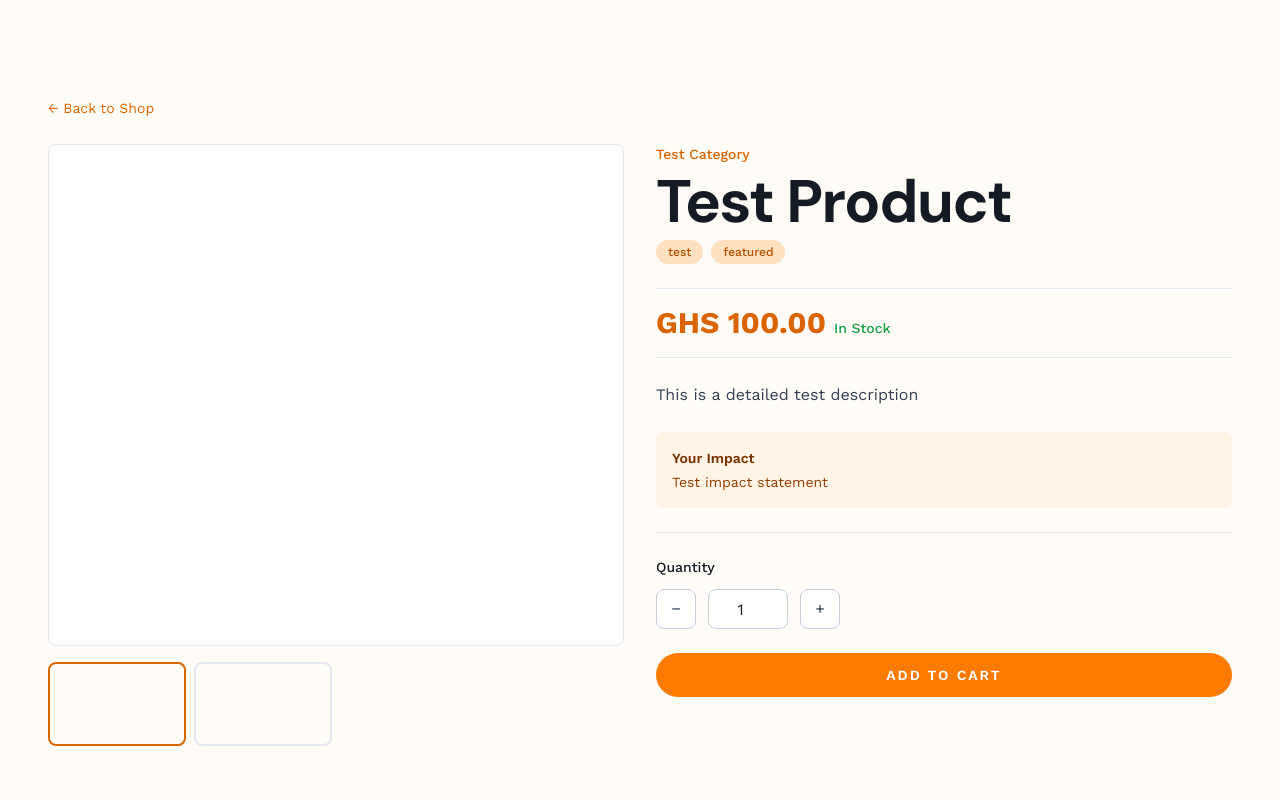
Test: ProductDetailPage › should allow increasing and decreasing quantity
Expected: the heading "Test Product" is shown, [656,162,1012,241]
# Increase quantity
Click the button "+": (820, 609) [800,589,840,629]
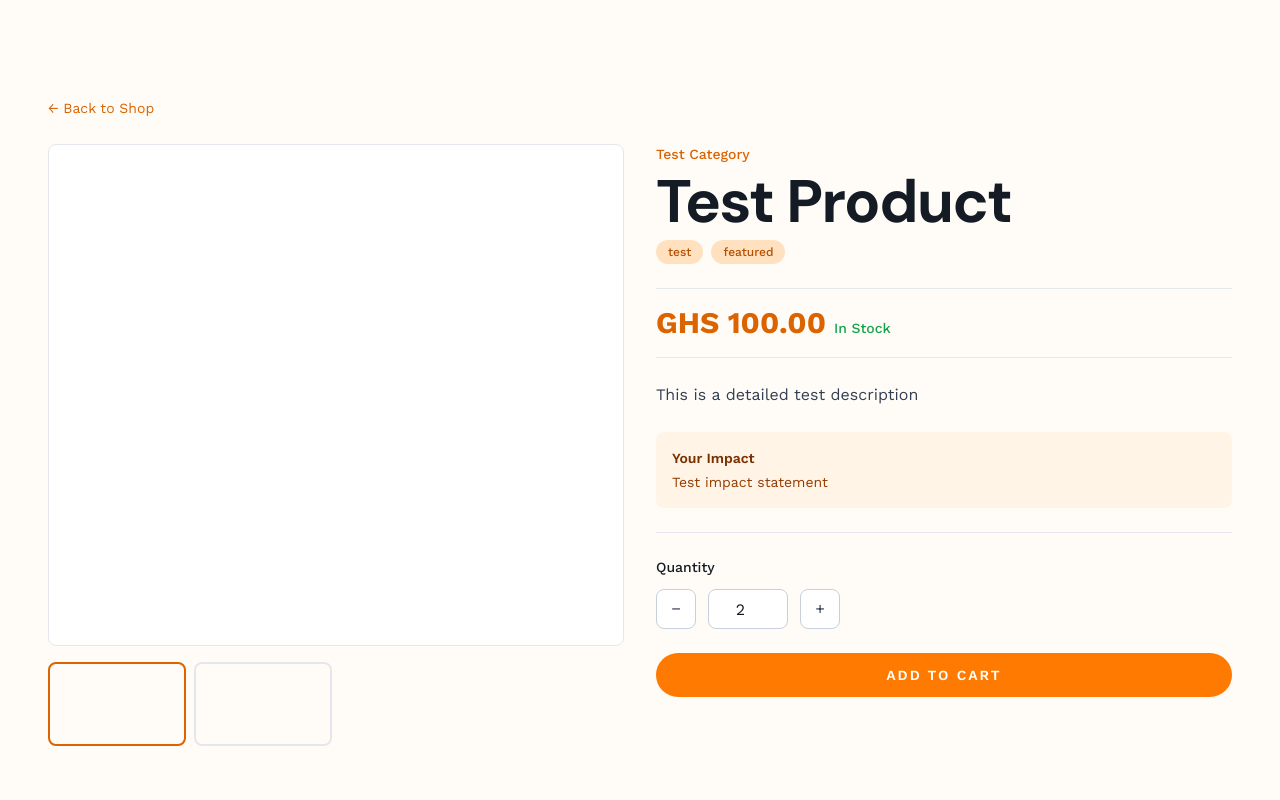
Now the number field holds "2", box [708,589,788,629]
# Increase again
Click the button "+": (820, 609) [800,589,840,629]
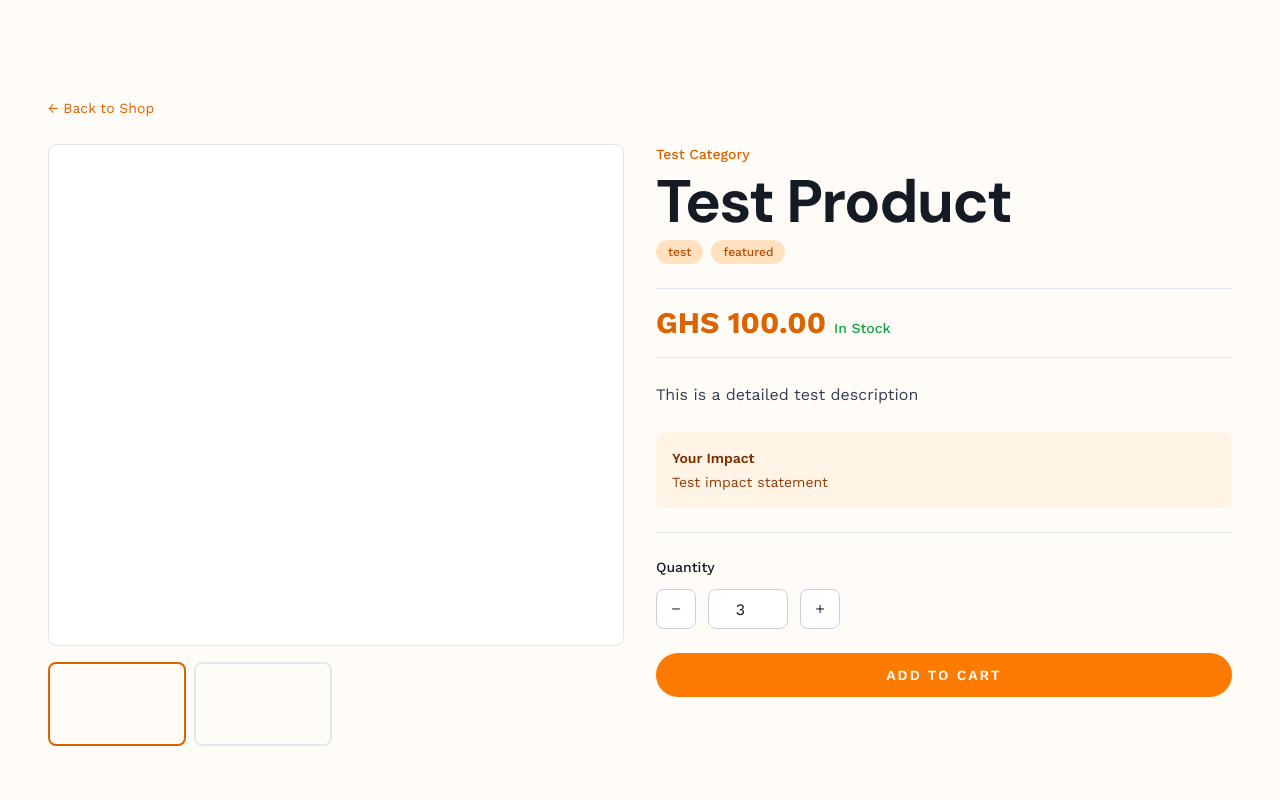
Now the number field holds "3", box [708,589,788,629]
# Decrease quantity
Click the button "−": (676, 609) [656,589,696,629]
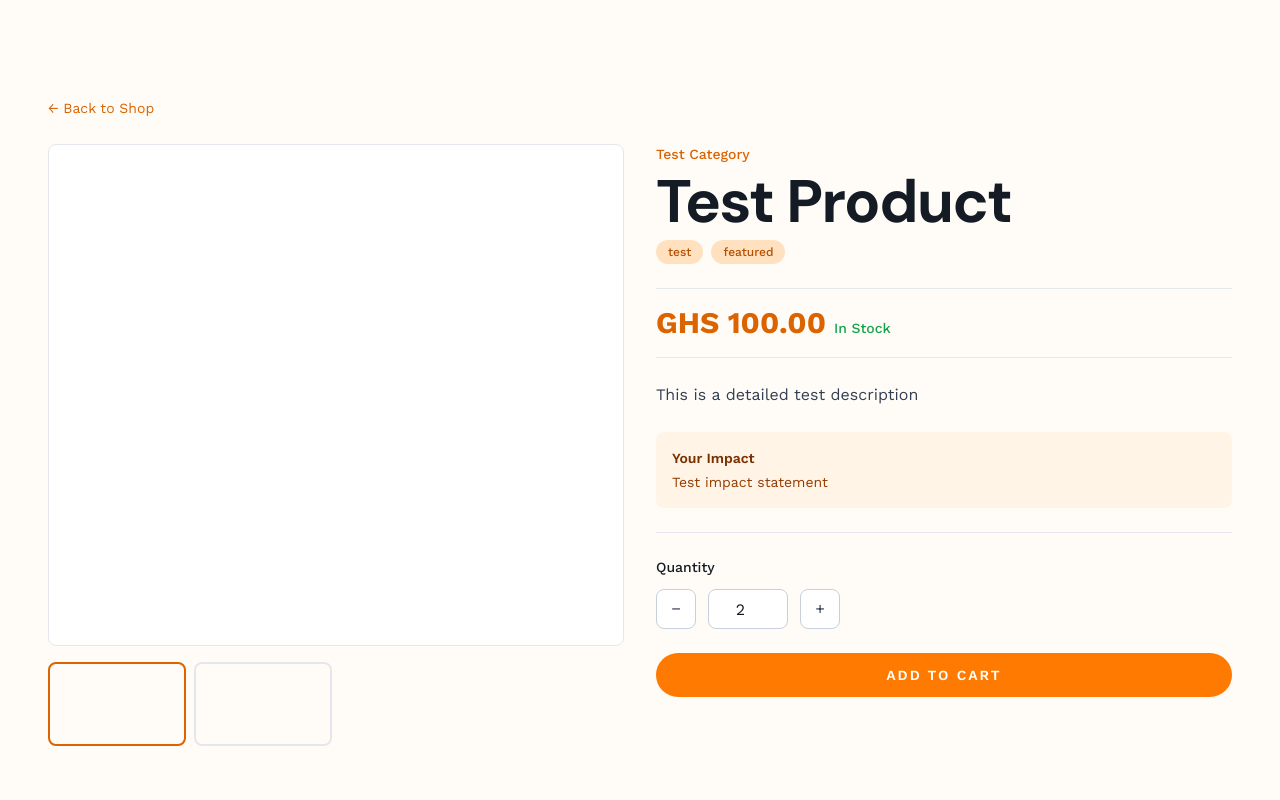
Now the number field holds "2", box [708,589,788,629]
